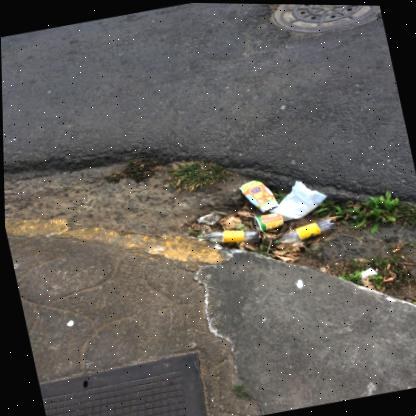Paper: (238, 179, 277, 211), (252, 212, 282, 230)
Plastic: (268, 179, 326, 220), (271, 216, 335, 244), (196, 228, 259, 242), (195, 212, 220, 225)
Waste: (359, 266, 377, 276), (391, 246, 399, 251), (385, 262, 389, 268), (374, 265, 377, 270)
